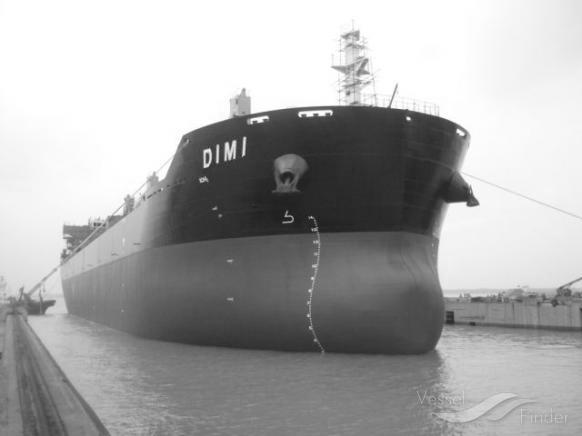OCR: (192, 134, 262, 178)
